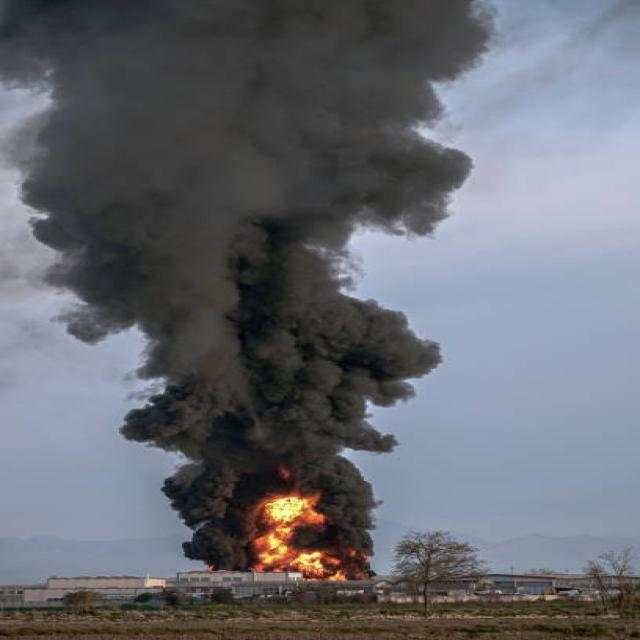Fire: (249, 494, 343, 580)
Smoke: (20, 166, 442, 462), (13, 2, 484, 170), (164, 444, 384, 564)
